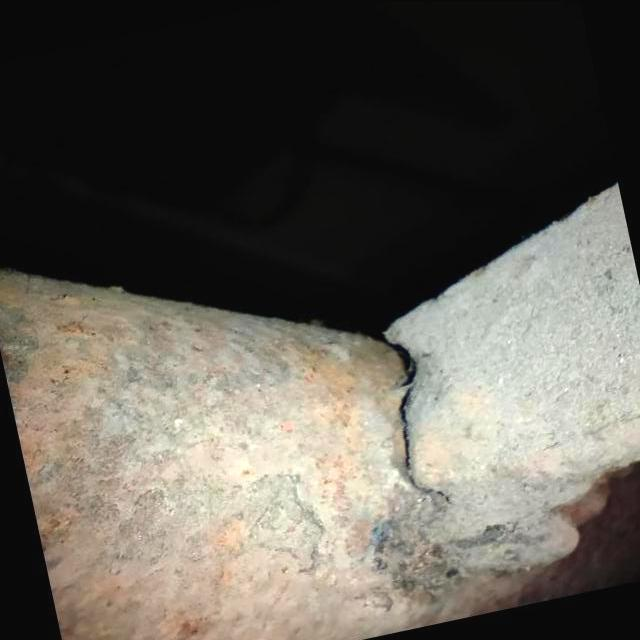defect: (372, 327, 451, 503)
